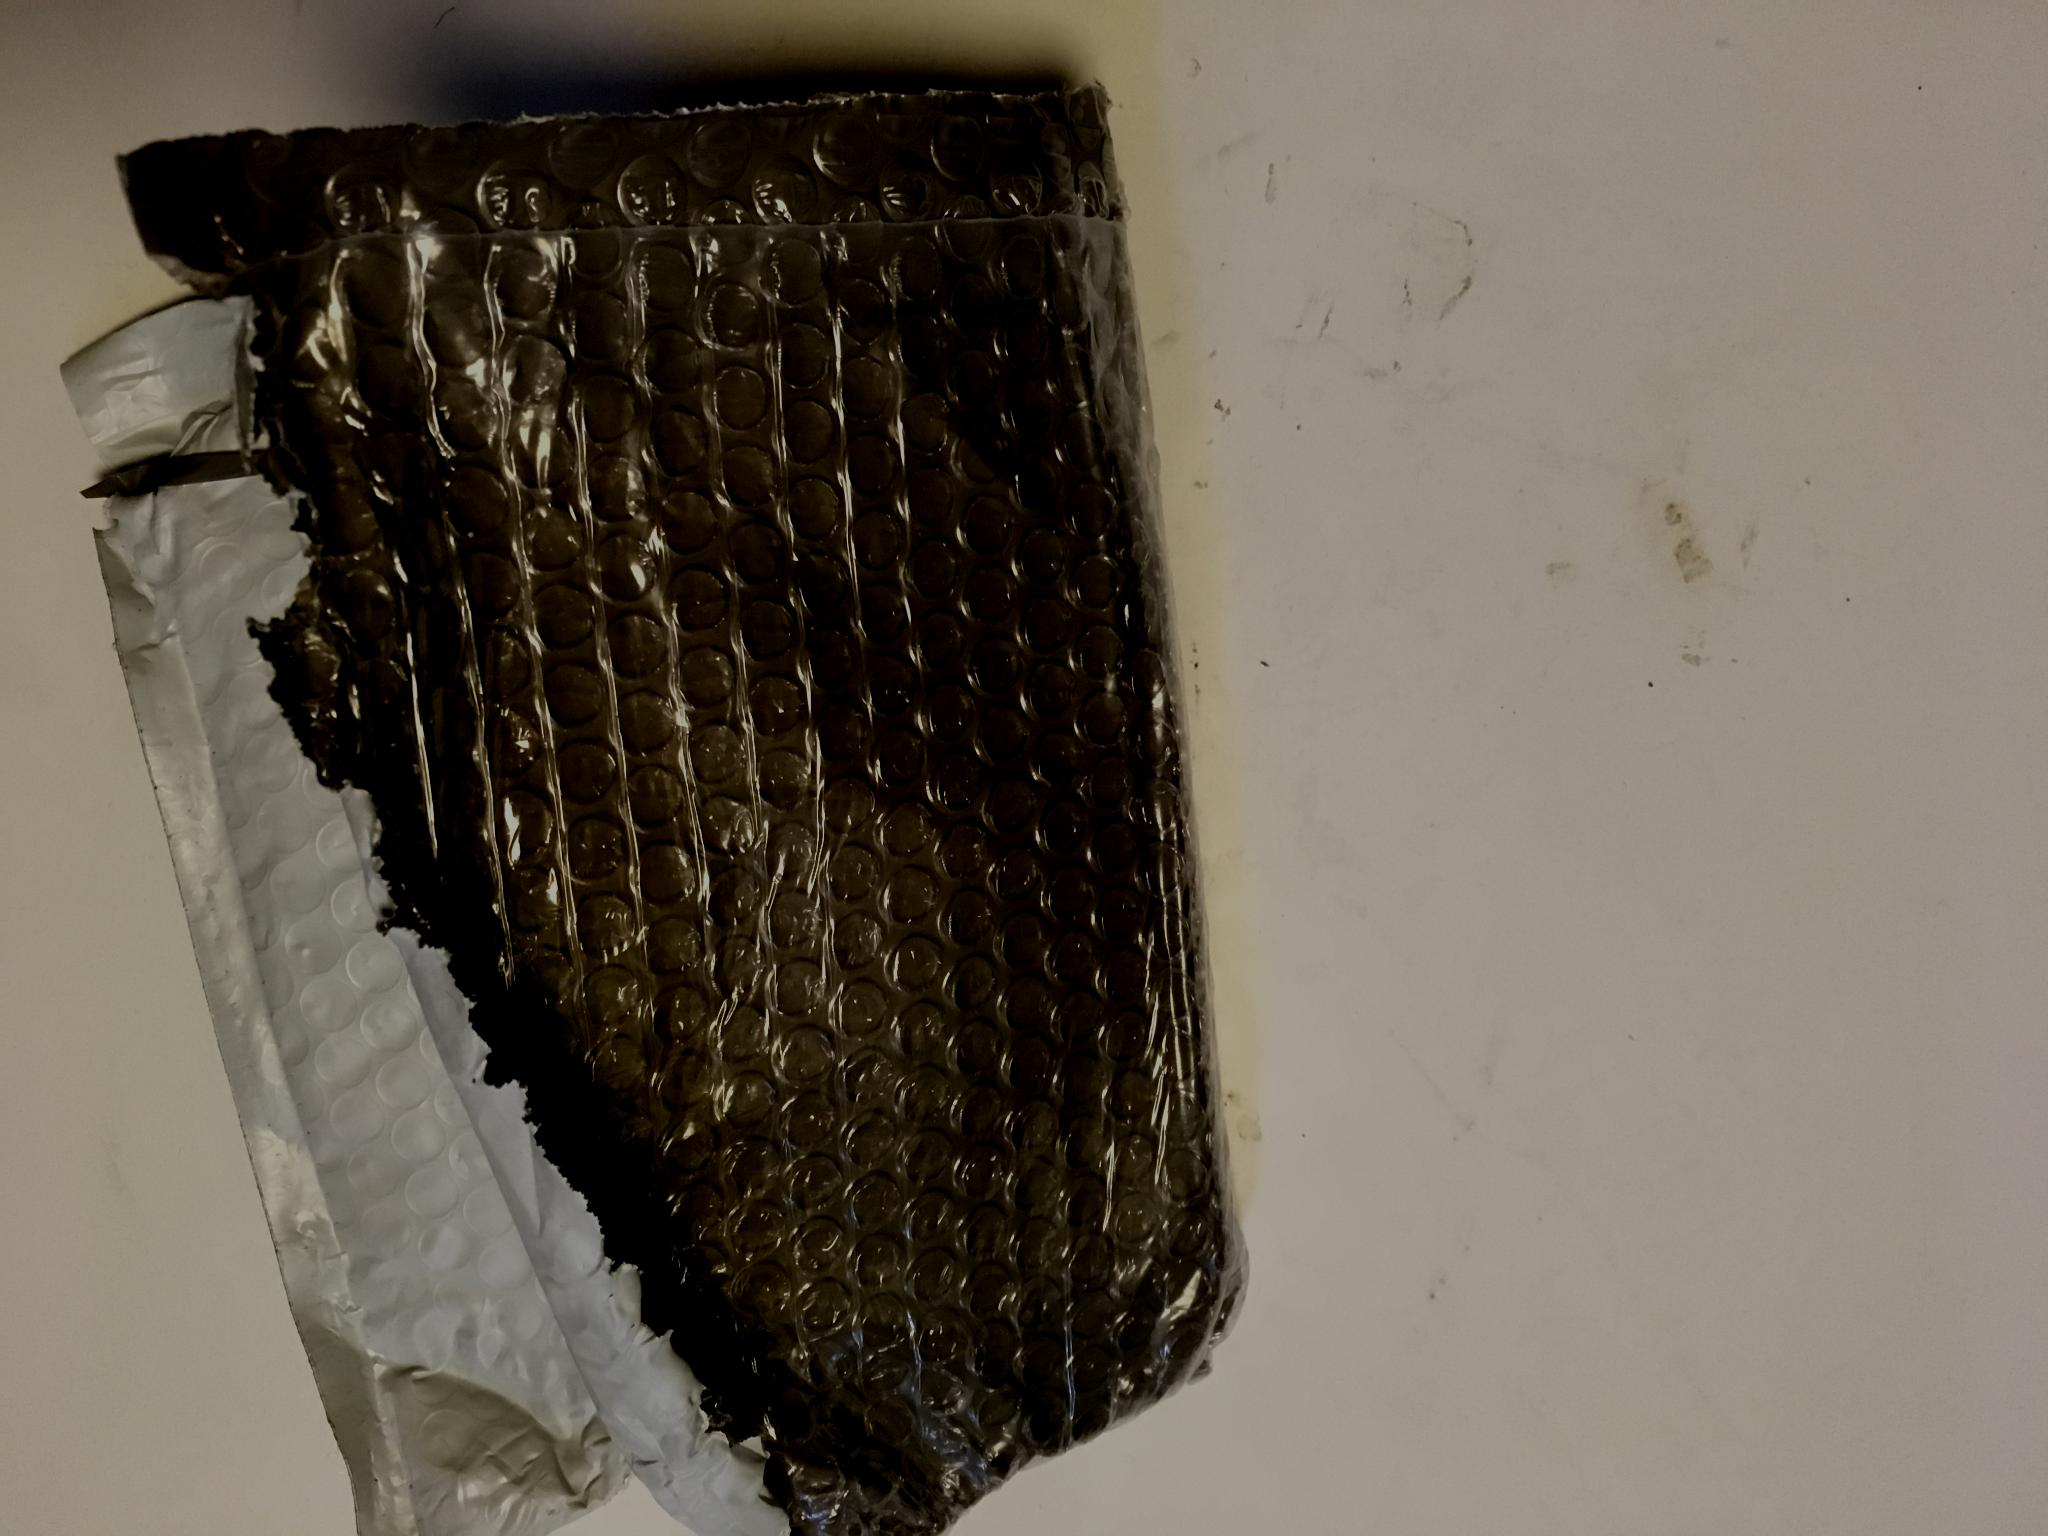Plastic: (0, 69, 1263, 1534)
